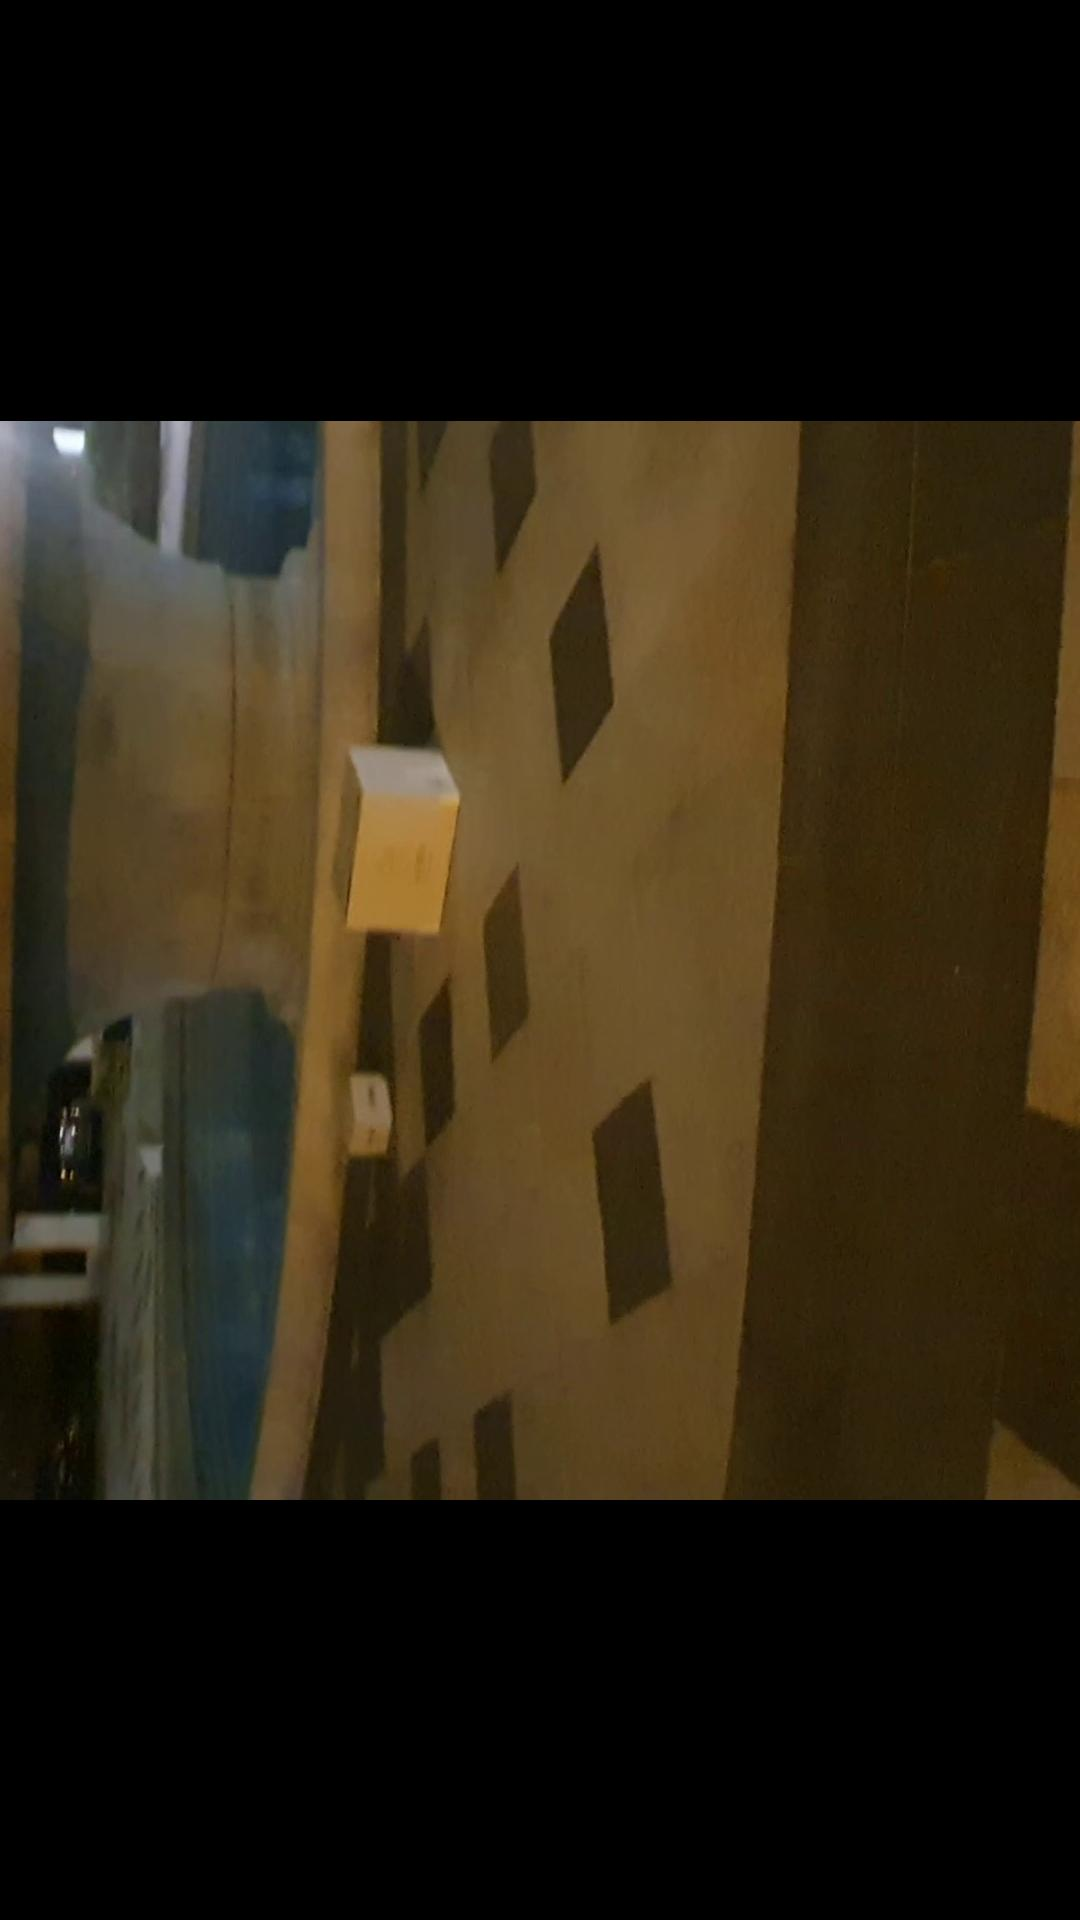Box: (315, 735, 462, 949), (320, 1069, 396, 1162)
